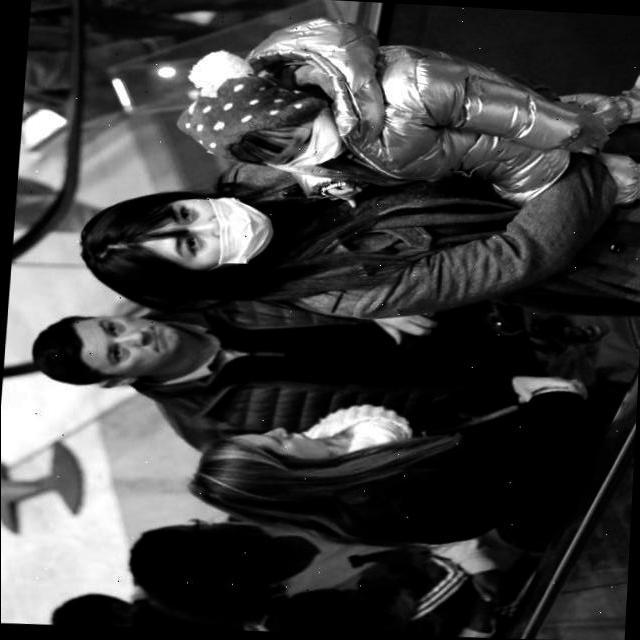mask: (282, 101, 360, 185), (212, 186, 276, 272)
no_gloves: (77, 178, 159, 280), (184, 72, 276, 146), (122, 538, 218, 602), (192, 439, 278, 507), (28, 321, 88, 381)
no_hairnet: (120, 296, 182, 386), (280, 427, 330, 465)
